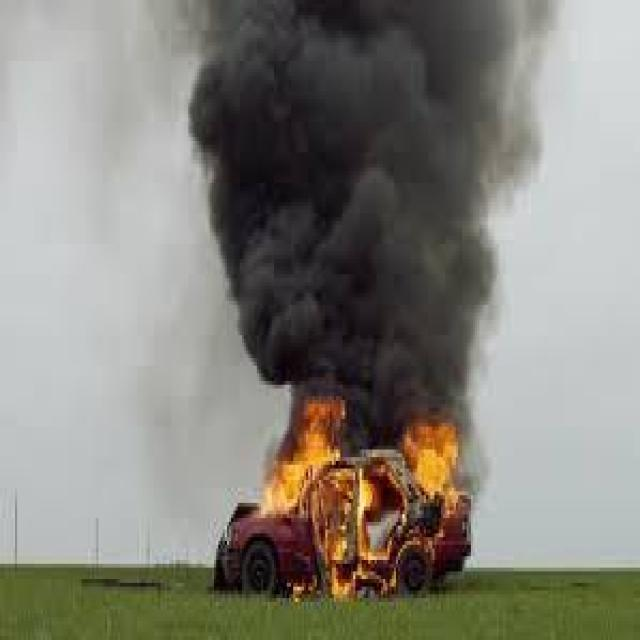fire: (256, 399, 469, 596)
smoke: (157, 2, 542, 399)
